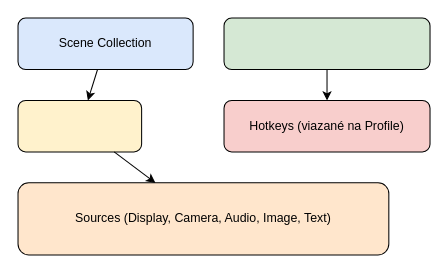
The diagram is 448 pixels wide and 273 high, and some of its shapes have lost their labels. The box of each missing label's shape, as (x1, y1, x2, y2) in pixels:
Profile (Hotkeys, Output): (223, 17, 430, 70)
Scenes: (17, 99, 142, 152)
